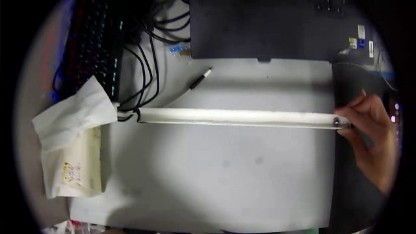gangzhu: (331, 116, 339, 125)
